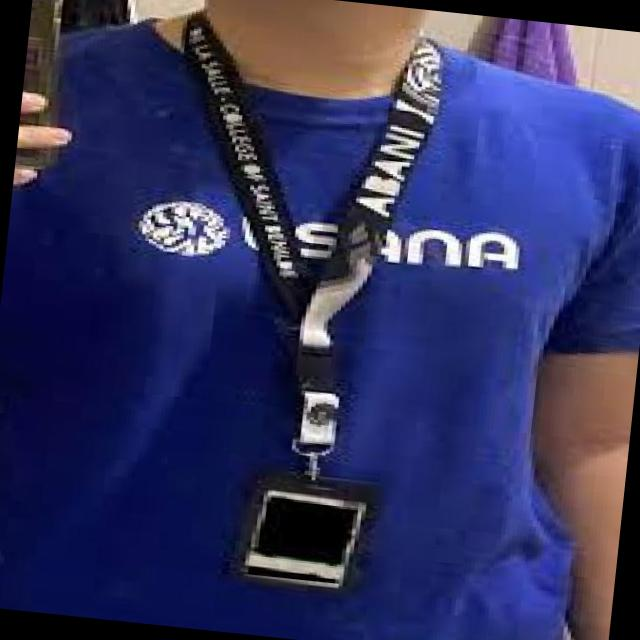id_card: (125, 0, 447, 601)
